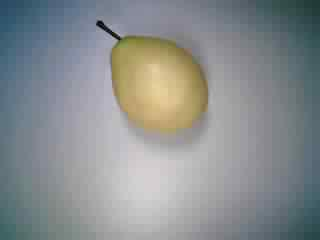pear: (84, 14, 223, 140)
